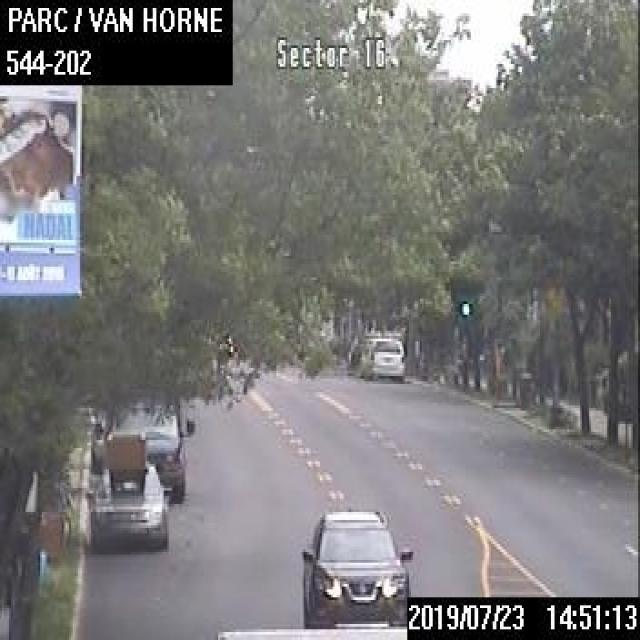vehicle: (301, 507, 411, 625), (92, 390, 195, 500), (88, 430, 171, 550), (216, 624, 407, 638), (358, 332, 405, 378)
